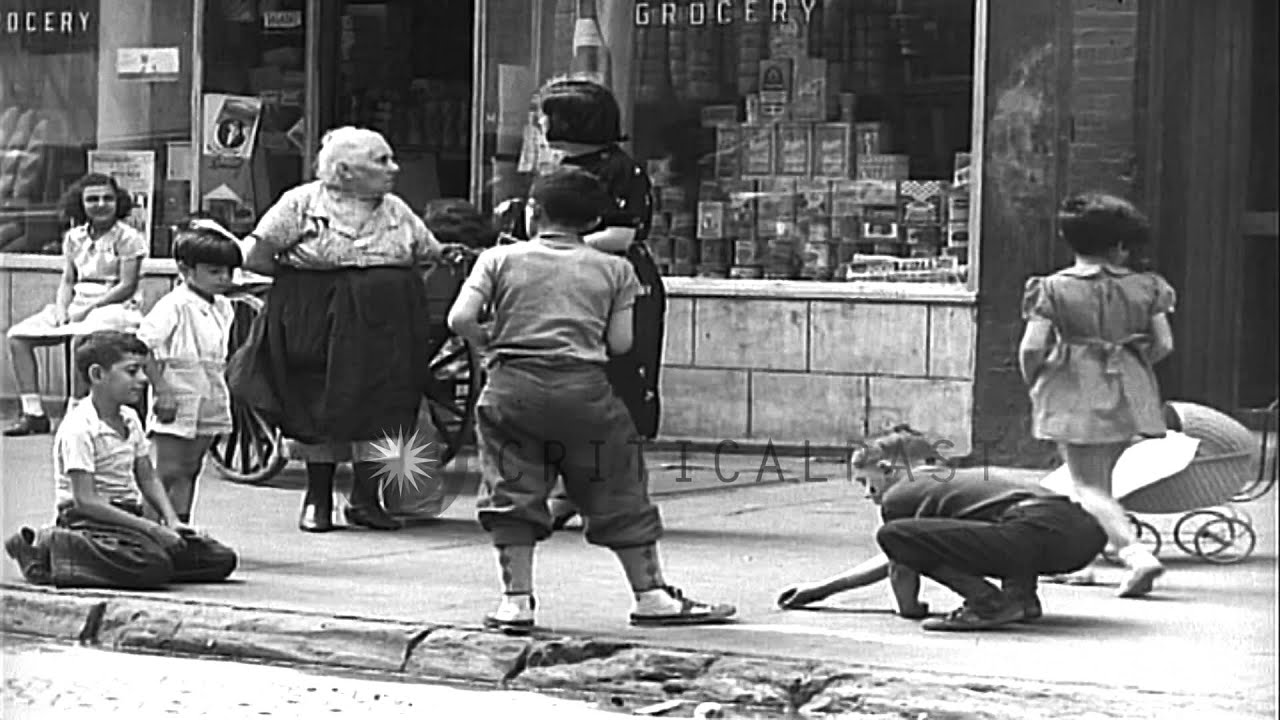Person: (436, 166, 734, 661), (768, 412, 1101, 698), (248, 104, 434, 547), (13, 316, 238, 629), (989, 178, 1180, 530), (132, 221, 248, 516)
